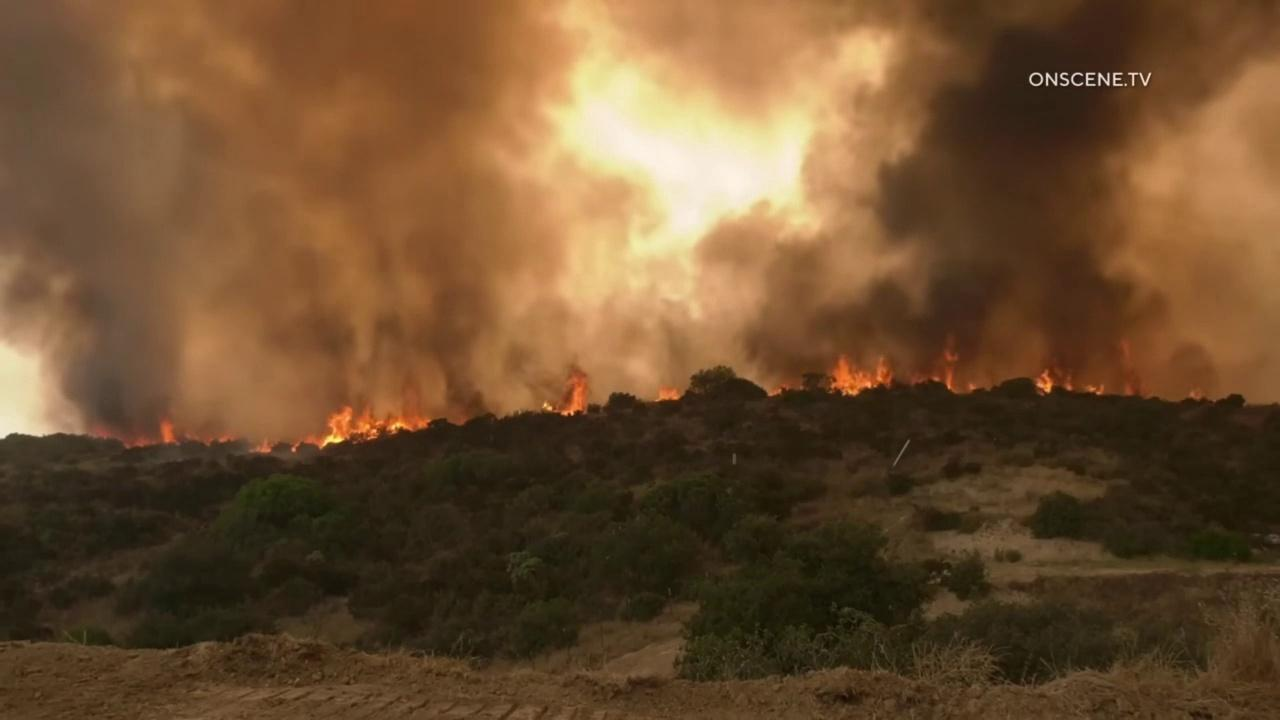fire: (291, 405, 431, 453), (95, 417, 240, 449), (828, 353, 894, 398), (543, 371, 588, 417), (943, 331, 959, 390), (1120, 339, 1134, 396), (1033, 368, 1052, 396), (654, 384, 681, 402), (251, 435, 272, 454), (766, 382, 790, 397), (1088, 384, 1105, 396), (1189, 390, 1202, 403), (1062, 381, 1072, 392), (969, 383, 977, 392), (932, 375, 940, 383)
smoke: (0, 0, 1280, 445)
